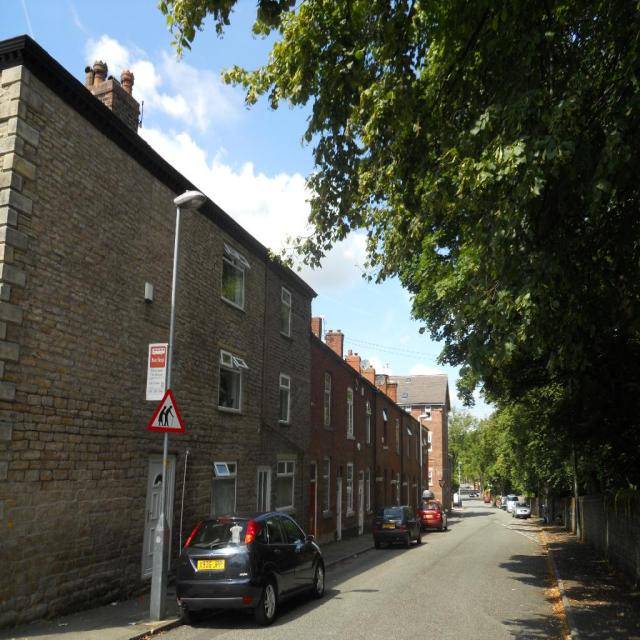car: (176, 507, 327, 627), (373, 504, 423, 545)
